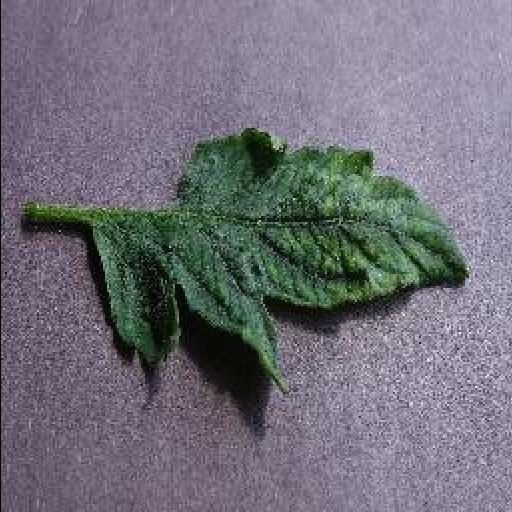Mosaic Virus: (90, 128, 466, 398)
